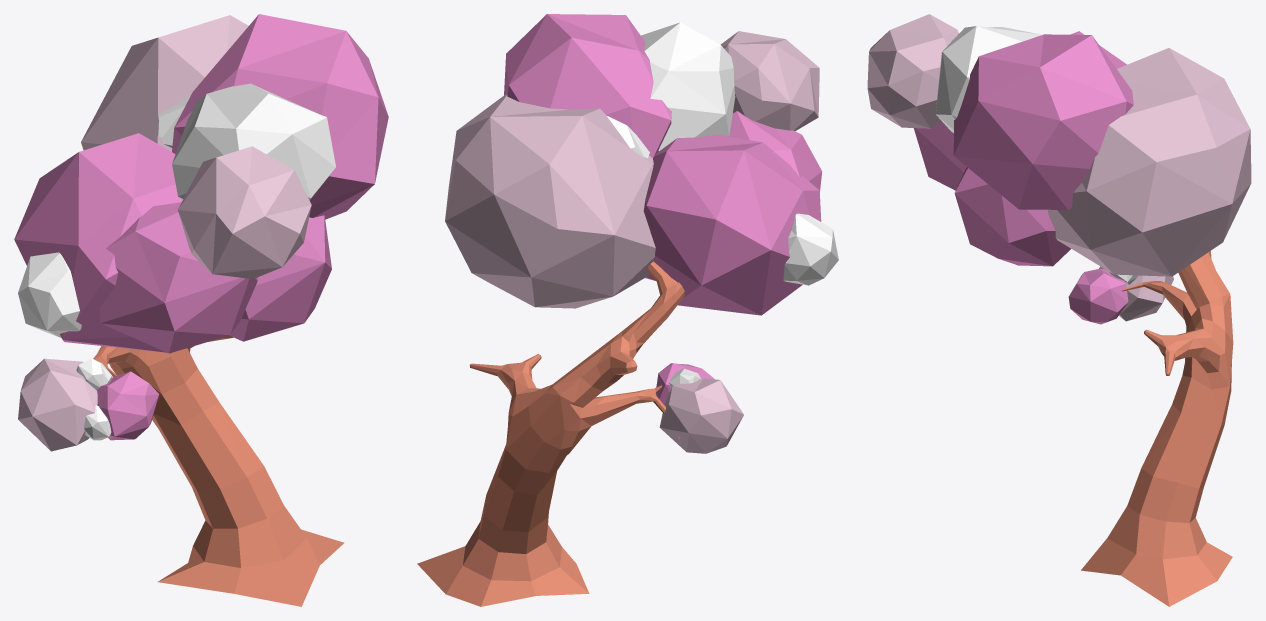
File: lowPolyTreeFlower.fbx
3 views of the same model, side by side, from view 1: azimuth 30°, elevation 25°; view 2: azimuth 150°, elevation 25°; view 3: azimuth 270°, elevation 25° (orthographic). The views are drawn at different scales.
Parts seen in each view (by area): view 1: Cube.006, Icosphere.065, Icosphere.072, Icosphere.073, Icosphere.075, Icosphere.066, Icosphere.076, Icosphere.077, Icosphere.068, Icosphere.074, Icosphere.069, Icosphere.067 (+2 smaller); view 2: Icosphere.076, Cube.006, Icosphere.072, Icosphere.065, Icosphere.066, Icosphere.075, Icosphere.068, Icosphere.074, Icosphere.073, Icosphere.069, Icosphere.067; view 3: Icosphere.076, Cube.006, Icosphere.065, Icosphere.075, Icosphere.077, Icosphere.066, Icosphere.069, Icosphere.073, Icosphere.068.
Boxes of the visible parts, x1,y1,x2,y2 form: Cube.006: (93, 335, 344, 606); Icosphere.065: (172, 14, 388, 219); Icosphere.072: (14, 133, 182, 353); Icosphere.073: (99, 202, 257, 353); Icosphere.075: (178, 146, 311, 278); Icosphere.066: (172, 83, 335, 200); Icosphere.076: (81, 15, 248, 151); Icosphere.077: (229, 215, 331, 341); Icosphere.068: (18, 358, 97, 451); Icosphere.074: (18, 252, 81, 337); Icosphere.069: (97, 371, 159, 440); Icosphere.067: (158, 95, 190, 147); Icosphere.076: (445, 94, 655, 308); Cube.006: (417, 261, 684, 606); Icosphere.072: (643, 134, 821, 315); Icosphere.065: (504, 14, 671, 158); Icosphere.066: (641, 22, 735, 151); Icosphere.075: (720, 31, 819, 130); Icosphere.068: (659, 378, 743, 453); Icosphere.074: (783, 213, 838, 285); Icosphere.073: (729, 111, 822, 191); Icosphere.069: (656, 363, 714, 404); Icosphere.067: (607, 116, 649, 158); Icosphere.076: (1047, 48, 1251, 276); Cube.006: (1081, 251, 1233, 606); Icosphere.065: (953, 34, 1133, 209); Icosphere.075: (867, 14, 958, 128); Icosphere.077: (954, 167, 1070, 266); Icosphere.066: (936, 26, 1041, 132); Icosphere.069: (1068, 268, 1128, 324); Icosphere.073: (913, 121, 966, 190); Icosphere.068: (1099, 266, 1173, 321).
Bounding box in the file's own units: 251 × 361 × 242.
